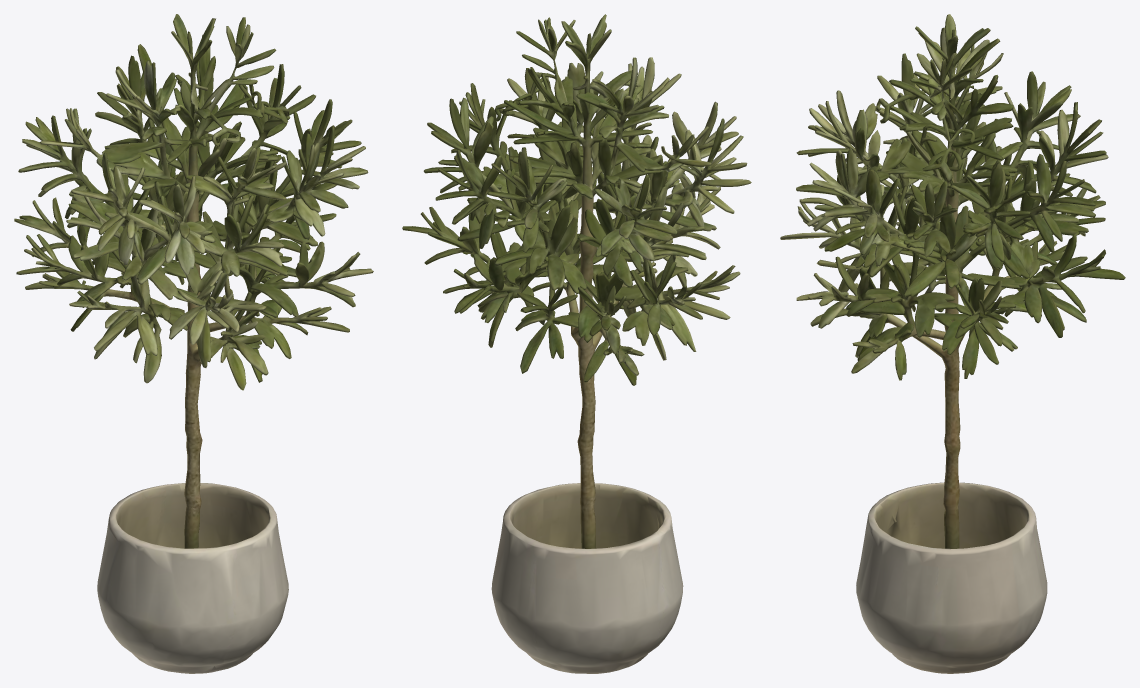
The model's file is olive-tree.glb.
The picture shows the model from 3 angles, left to right: view 1: azimuth 30°, elevation 25°; view 2: azimuth 150°, elevation 25°; view 3: azimuth 270°, elevation 25°; orthographic projection.
Visible parts, largest first — view 1: tripo_node_520df580-06c0-41f6-a403-5bf2e9615eb1; view 2: tripo_node_520df580-06c0-41f6-a403-5bf2e9615eb1; view 3: tripo_node_520df580-06c0-41f6-a403-5bf2e9615eb1.
Boxes of the visible parts, <box> form: tripo_node_520df580-06c0-41f6-a403-5bf2e9615eb1: <box>14,14,373,673</box>; tripo_node_520df580-06c0-41f6-a403-5bf2e9615eb1: <box>402,14,751,673</box>; tripo_node_520df580-06c0-41f6-a403-5bf2e9615eb1: <box>780,14,1125,673</box>.
Bounding box in the file's own units: 0.4969 × 0.9785 × 0.4891.
1 material, 1 textured.
